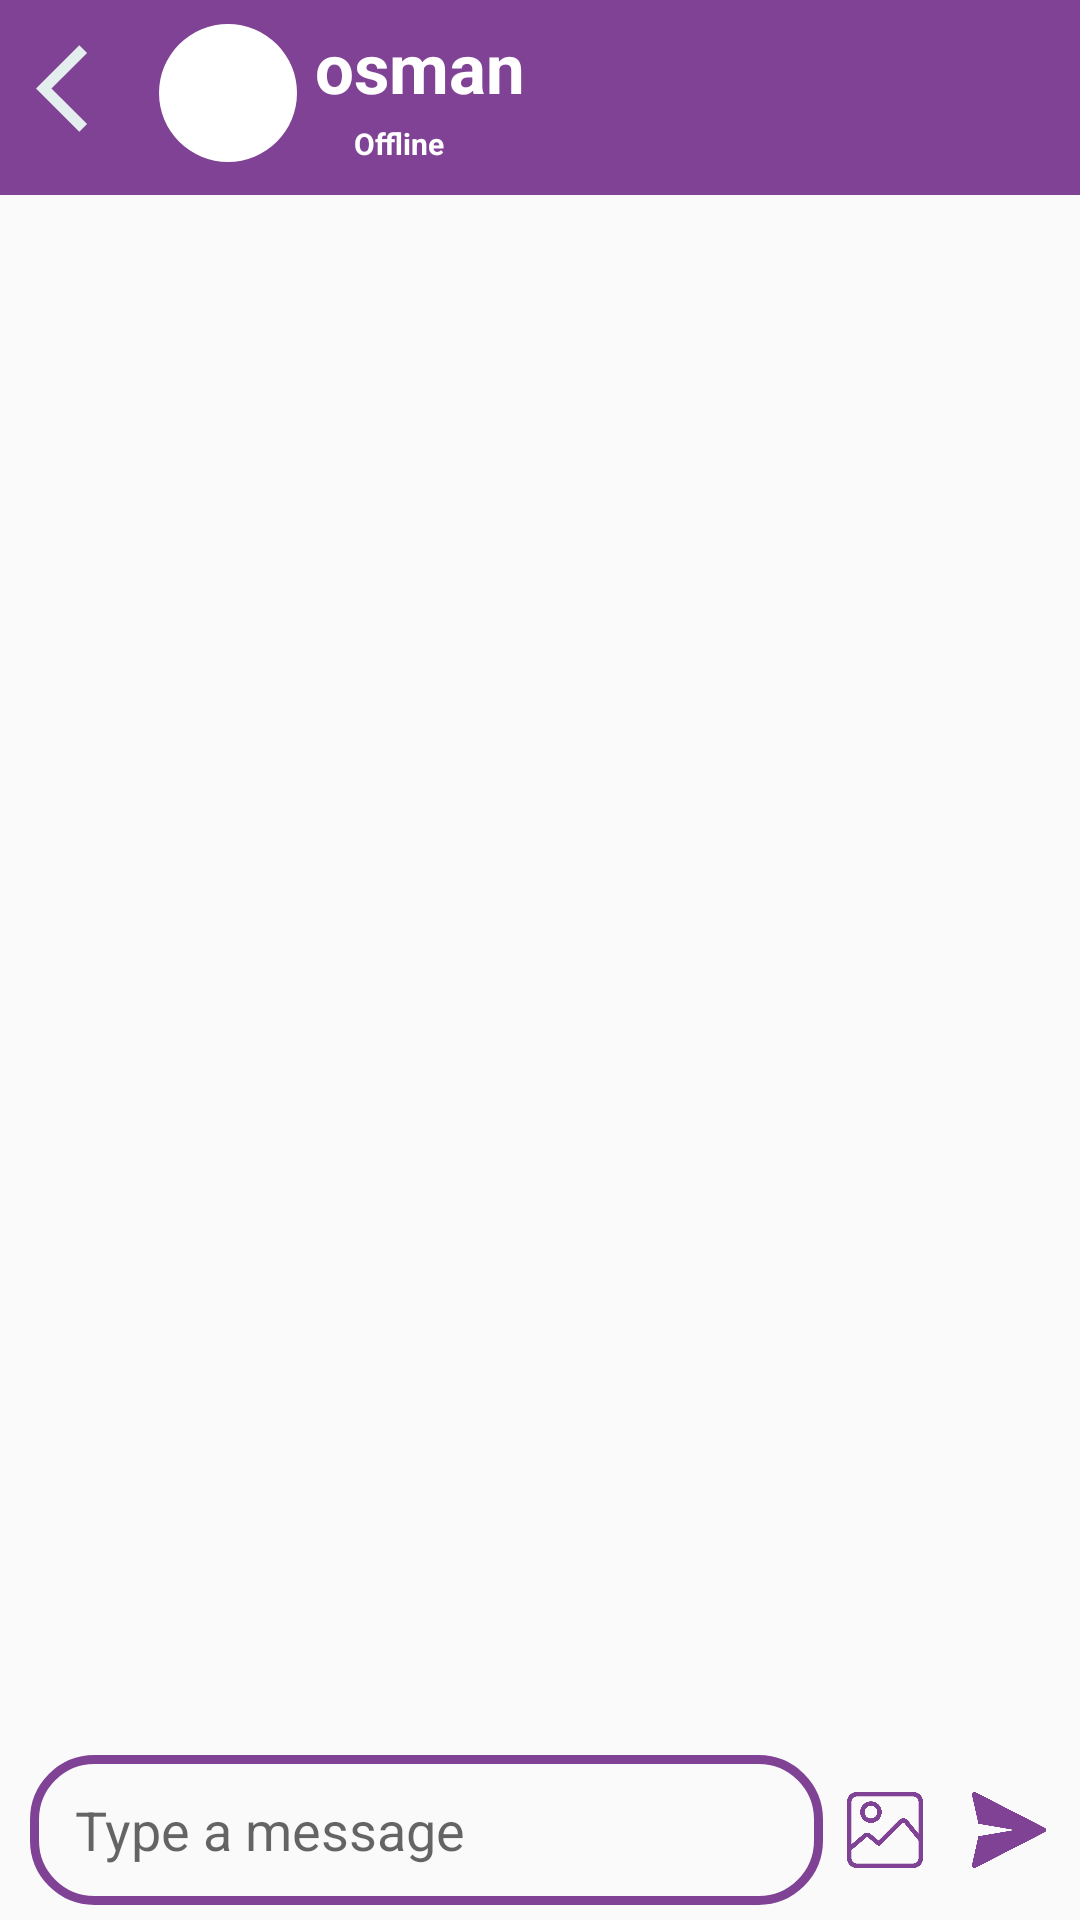

Icon bounding boxes for this 1080w x 1920h phone screenshot, format [x1=x1, y1=y1, x2=x2, y2=y2]:
arrow back: [x1=36, y1=45, x2=87, y2=132]
sendmessa: [x1=972, y1=1792, x2=1046, y2=1868]
